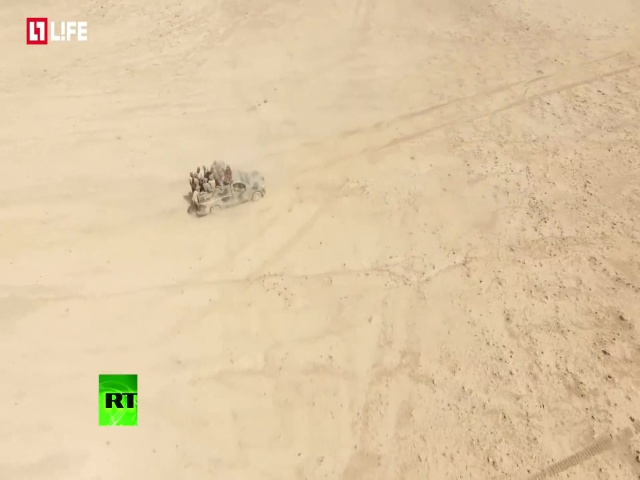vehicle: (187, 161, 268, 217)
